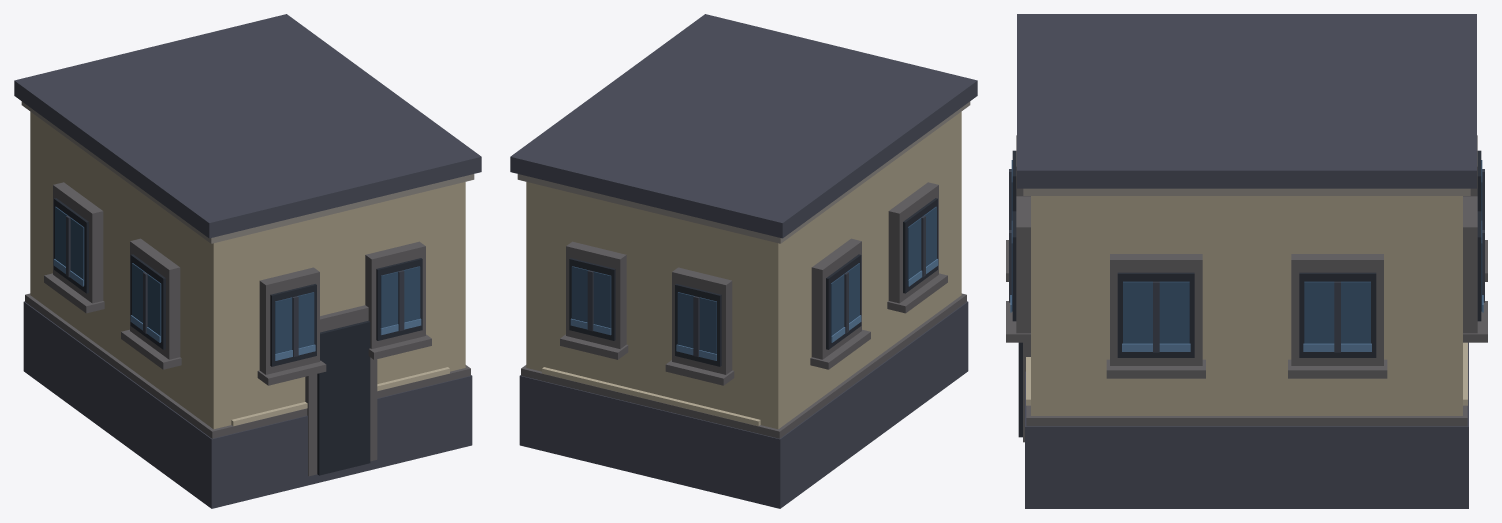
Rendered from NarrowTownhouse.obj.
3 renders of one model, left to right at view 1: azimuth 30°, elevation 25°; view 2: azimuth 150°, elevation 25°; view 3: azimuth 270°, elevation 25°, orthographic. The views are drawn at different scales.
Visible parts, largest first — view 1: NarrowTownhouse; view 2: NarrowTownhouse; view 3: NarrowTownhouse.
Part boxes in pixels (x1=…): NarrowTownhouse: x1=14, y1=14, x2=481, y2=508; NarrowTownhouse: x1=510, y1=14, x2=977, y2=508; NarrowTownhouse: x1=1006, y1=14, x2=1487, y2=508.
Bounding box in the file's own units: 0.928 × 0.89 × 1.14.
